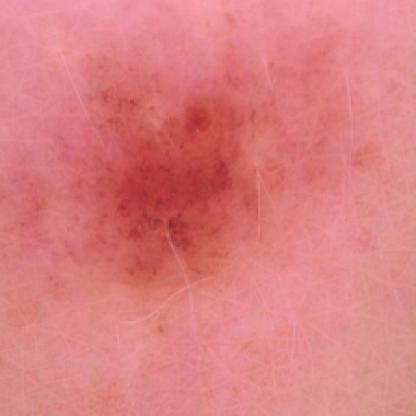benign: (89, 54, 273, 286)
